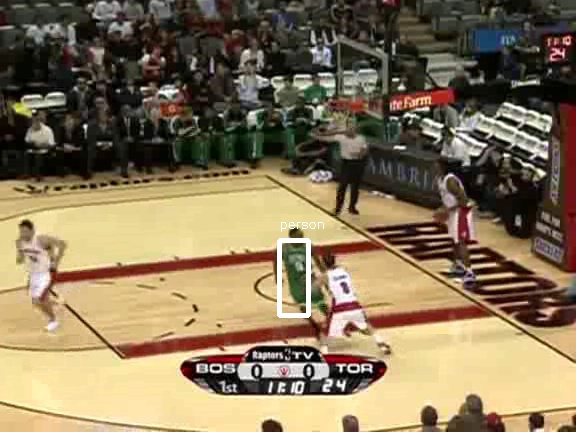person: (281, 231, 315, 312), (280, 231, 314, 312), (282, 231, 316, 312), (281, 230, 315, 311), (281, 232, 315, 313)
target_negative: (33, 69, 339, 425), (226, 166, 459, 262), (466, 148, 534, 324), (173, 213, 234, 366), (475, 101, 532, 207), (433, 413, 436, 432)
